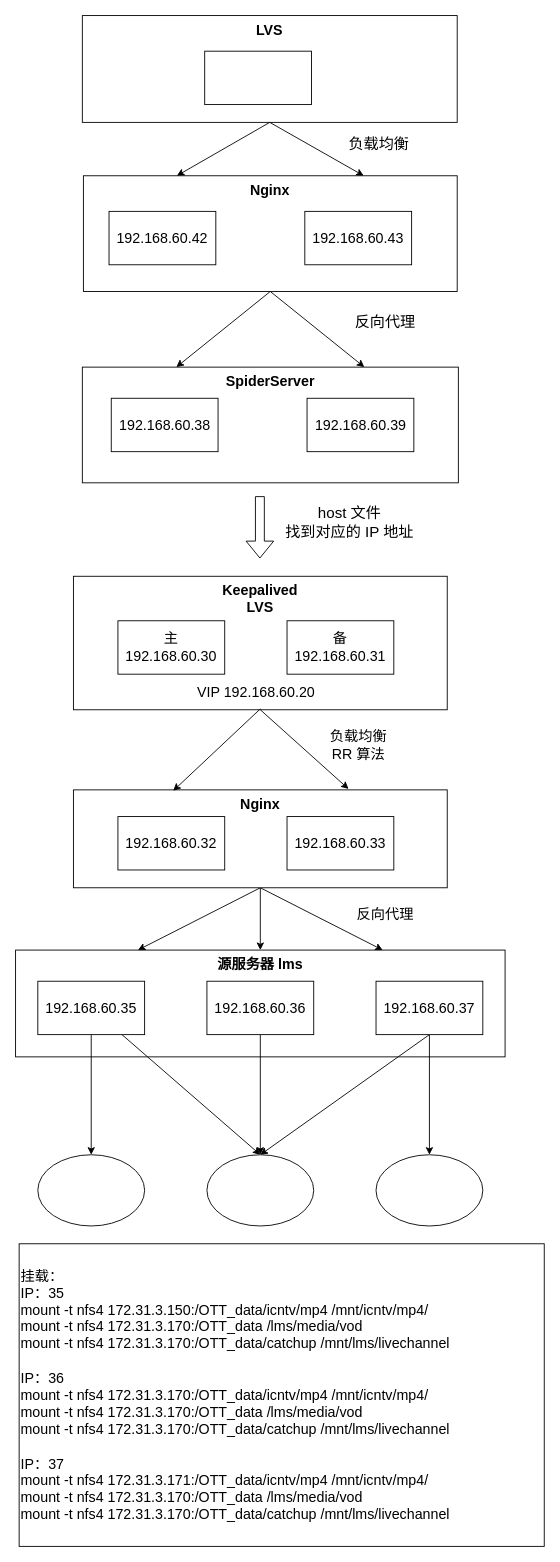
The diagram is 560 pixels wide and 1562 high, and some of its shapes have lost their labels. The centre of each missing label's shape, as x and y in pixels:
VIP 192.168.60.21: pixel 258 77
存储服务器 172.31.3.150: pixel 91 1190
存储服务器 172.31.3.170: pixel 260 1190
存储服务器 172.31.3.171: pixel 429 1190
